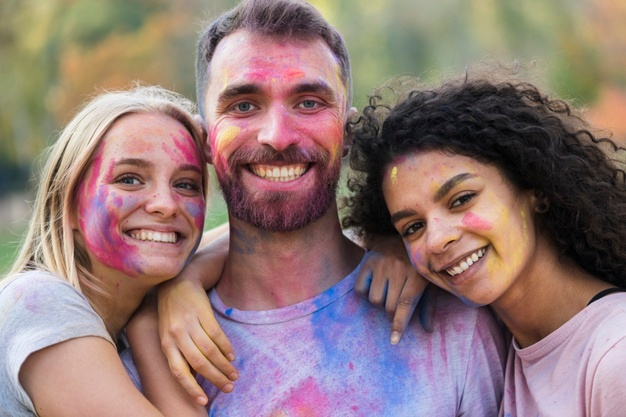without_mask: (69, 109, 211, 289), (210, 39, 339, 224), (393, 156, 531, 307)
